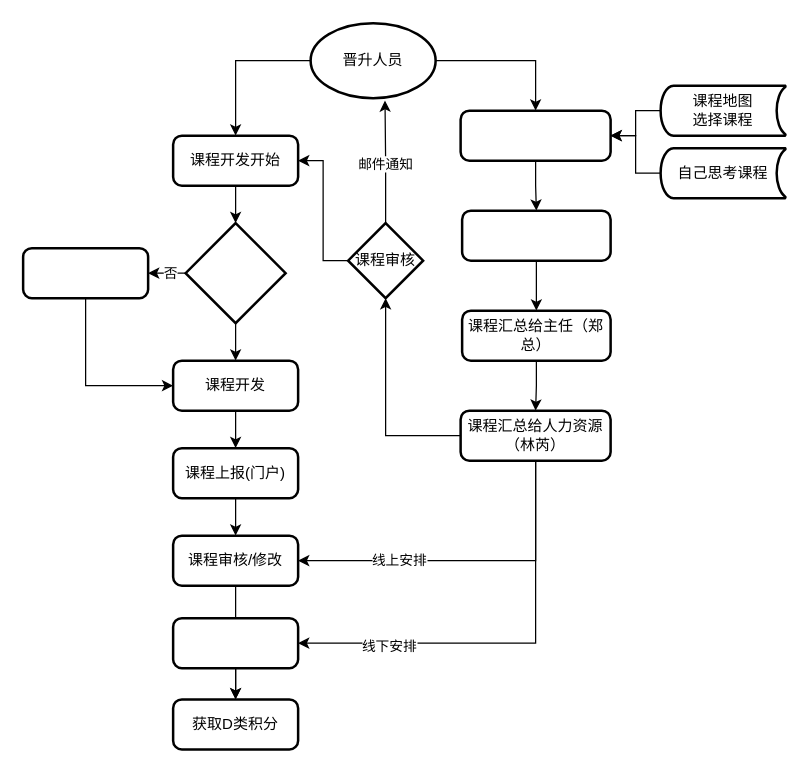
This 808x771 diagram has some shape labels left out. Each missing label, with the centre of its shape:
"PPT培训" belongs at (85,272).
"上报课程" belongs at (535,135).
"是否培训过PPT编写教程" belongs at (235,272).
"统计课程（陈水鑫）" belongs at (535,235).
"课程线下评审" belongs at (235,642).
